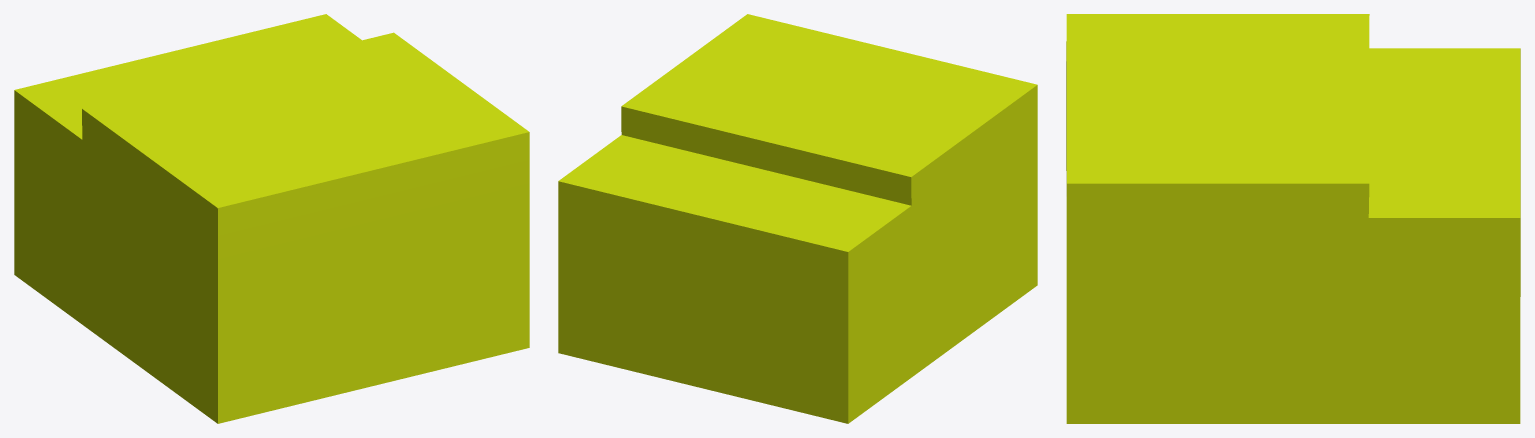
Rendered from Formwork_Group_low.fbx.
3 views of the same model, side by side, from view 1: azimuth 30°, elevation 25°; view 2: azimuth 150°, elevation 25°; view 3: azimuth 270°, elevation 25° (orthographic). The views are drawn at different scales.
Visible parts, largest first — view 1: Formwork_Group_low; view 2: Formwork_Group_low; view 3: Formwork_Group_low.
Part boxes in pixels (x1=…): Formwork_Group_low: x1=14, y1=14, x2=529, y2=423; Formwork_Group_low: x1=558, y1=14, x2=1037, y2=423; Formwork_Group_low: x1=1066, y1=14, x2=1520, y2=423.
Size of the model in its own units: 1603 by 1059 by 1813.
